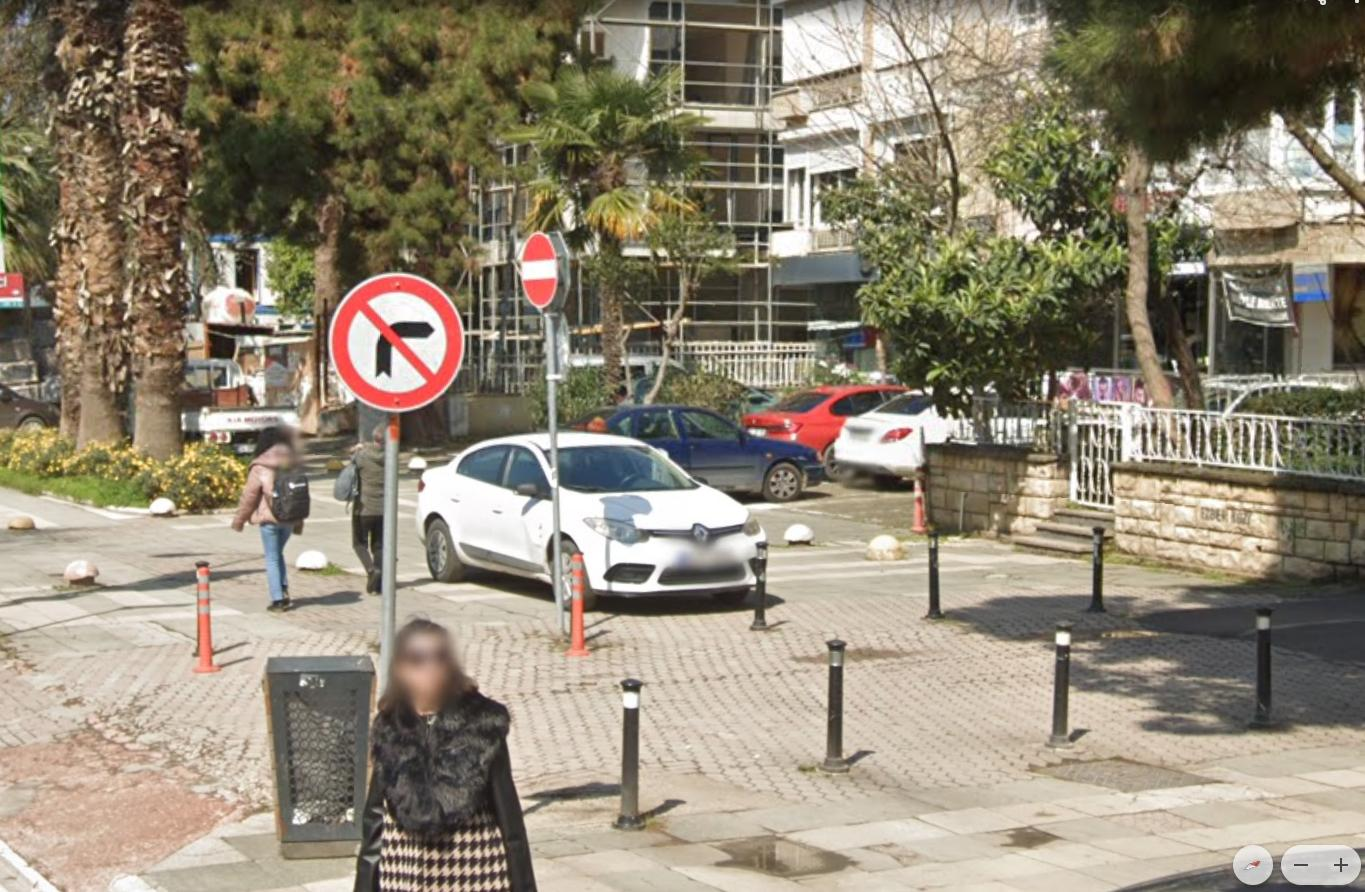rightturnsareforbidden: (341, 287, 466, 411)
